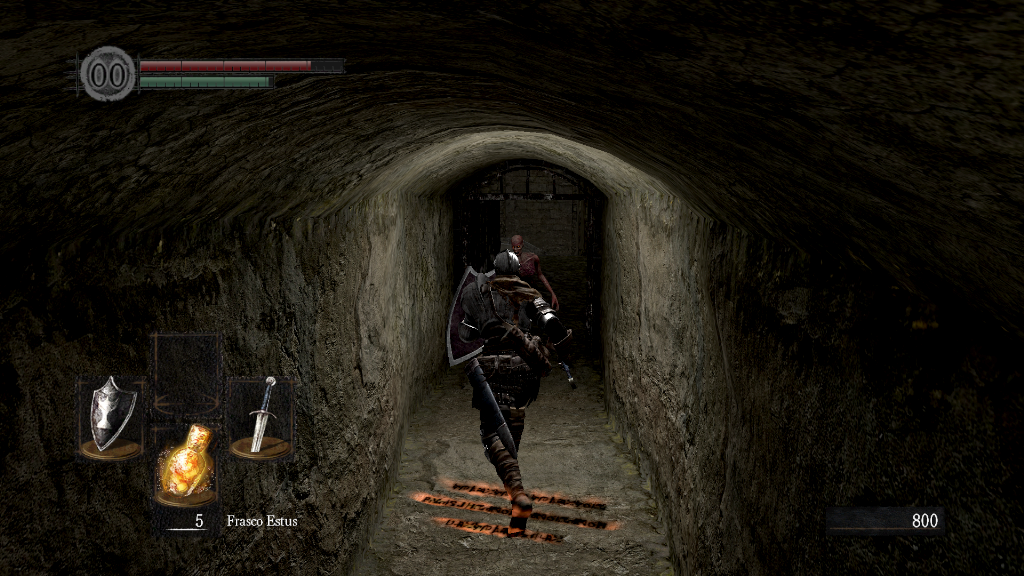health: (138, 58, 343, 71)
hollow: (493, 234, 561, 318)
humanity: (80, 45, 136, 102)
player: (444, 250, 582, 536)
souls: (825, 506, 945, 536)
stamina: (138, 74, 274, 88)
